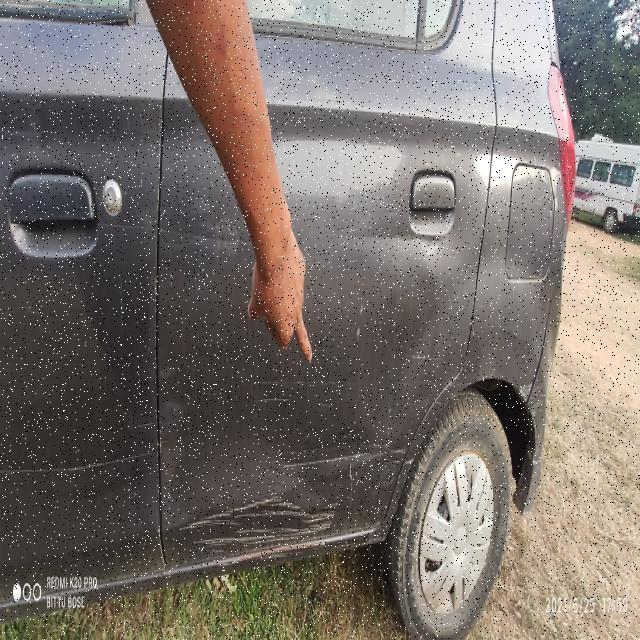doorouter-dent: (168, 29, 446, 544), (1, 21, 162, 580)
